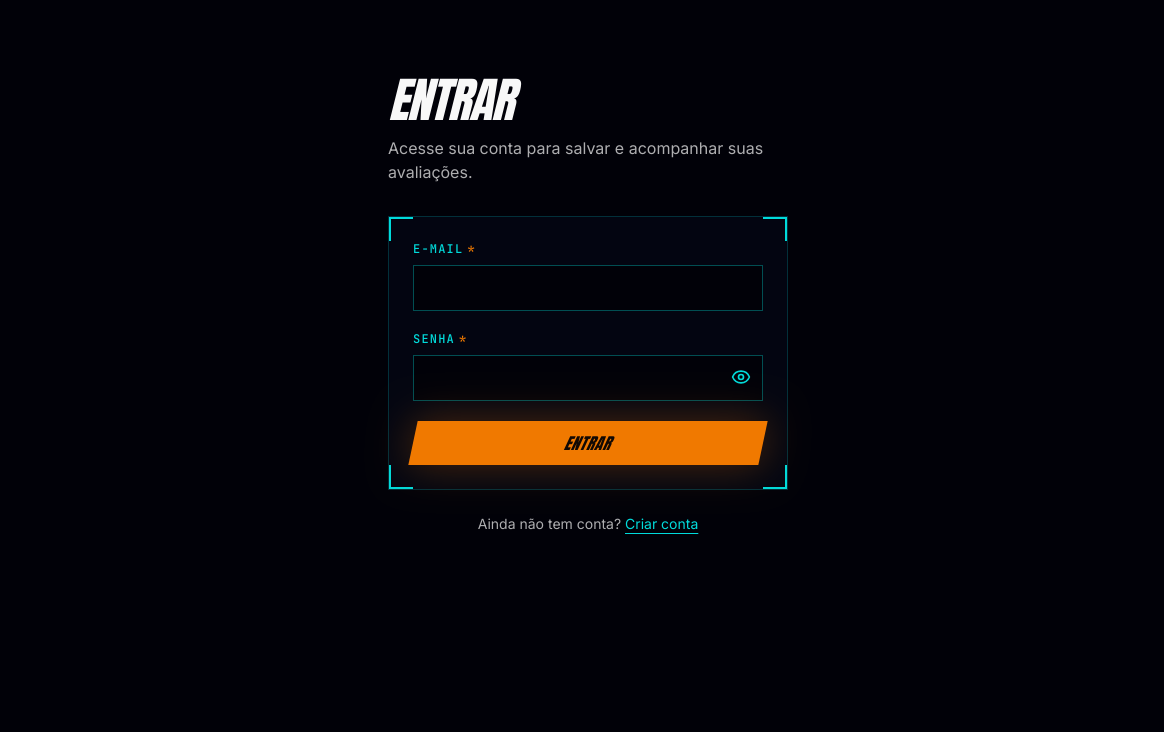
Scenario: LoginPage › ignora next externo e vai para /avaliar
The image size is (1164, 732).
Type "ana@exemplo.com" into the field labelled "E-mail*" at (588, 288), box [413,265,763,311]
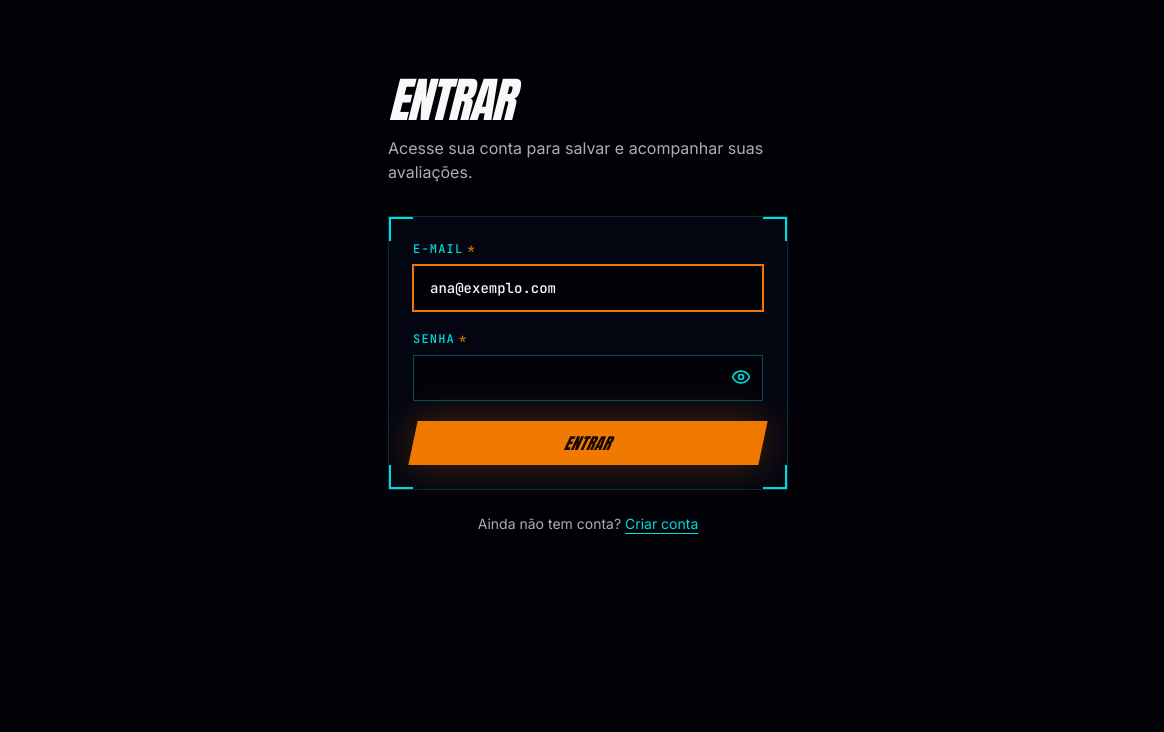
Type "senha-segura-123" into the password field labelled "Senha*" at (588, 378), box [413,355,763,401]
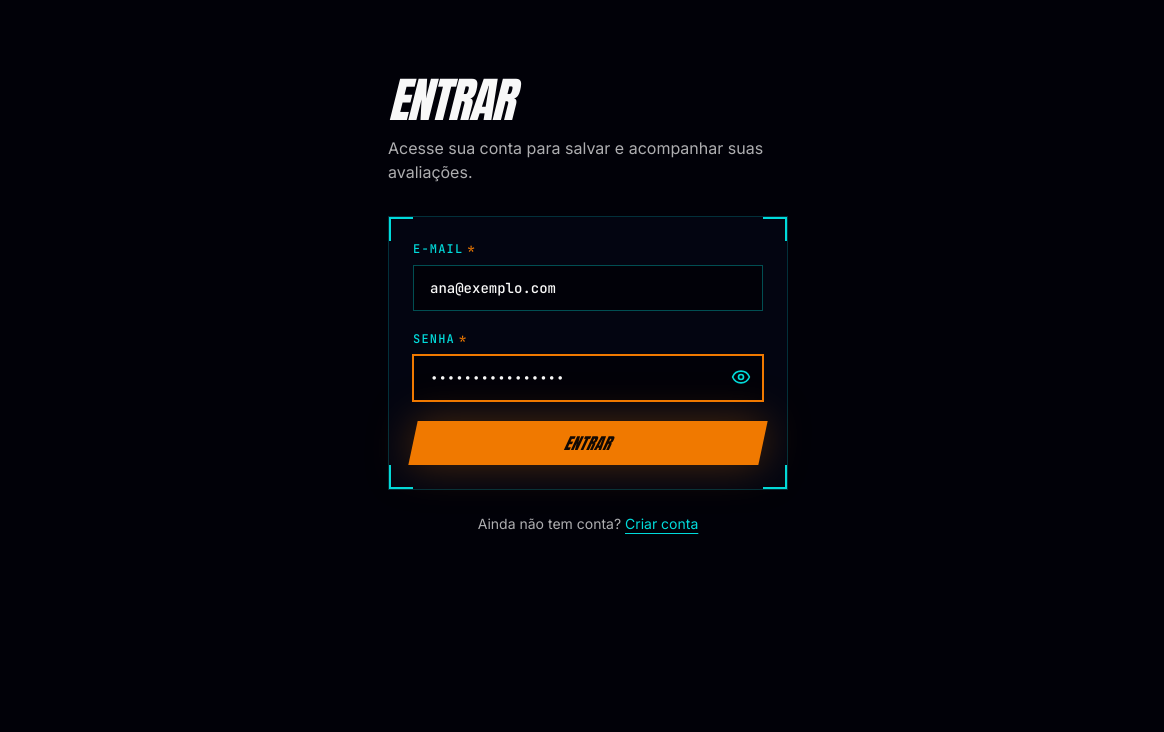
Click the button "Entrar" at (588, 443), box [408,421,768,465]
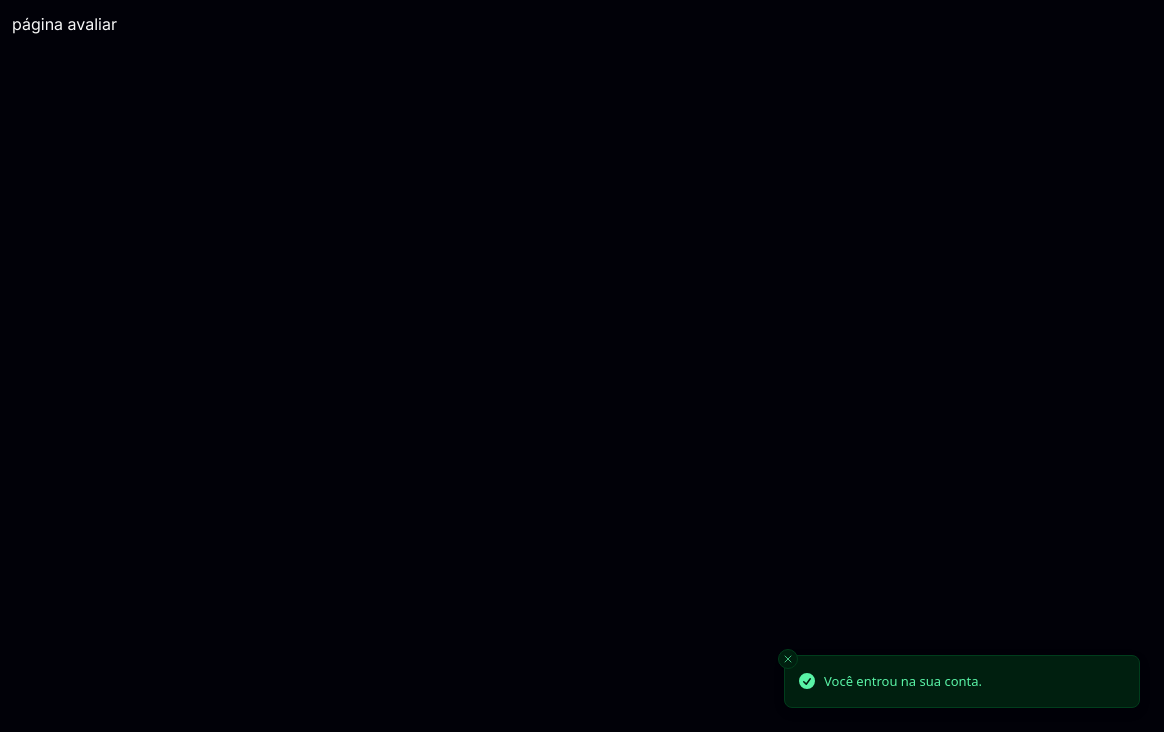
Now the text "página avaliar" is shown, box [12,14,117,34]
